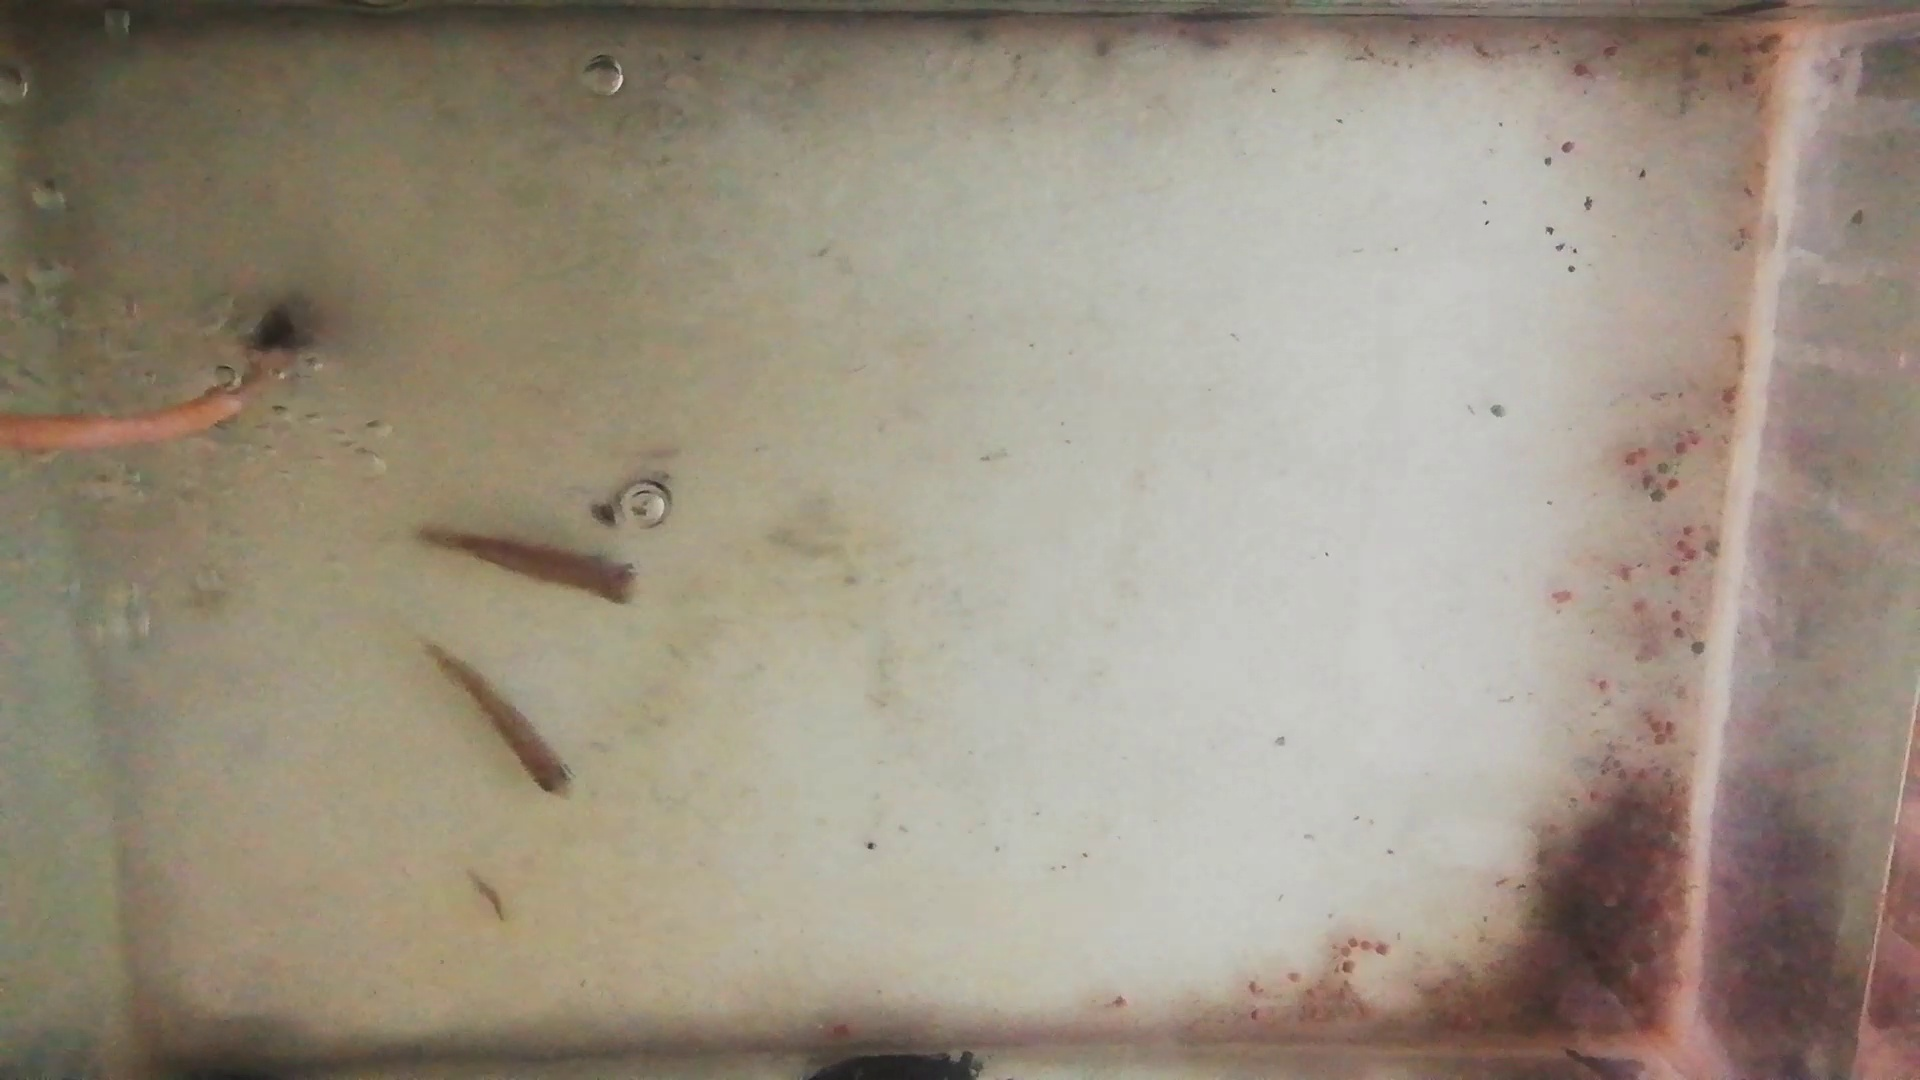fish: (425, 636, 575, 804), (413, 524, 638, 605)
